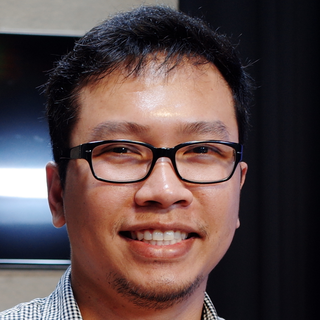eye: (99, 140, 140, 160), (183, 142, 219, 161)
